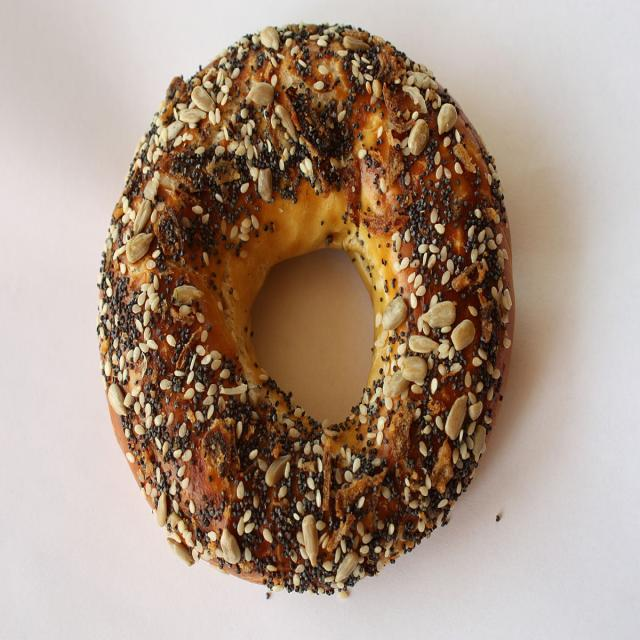Bagel: (98, 24, 515, 593)
